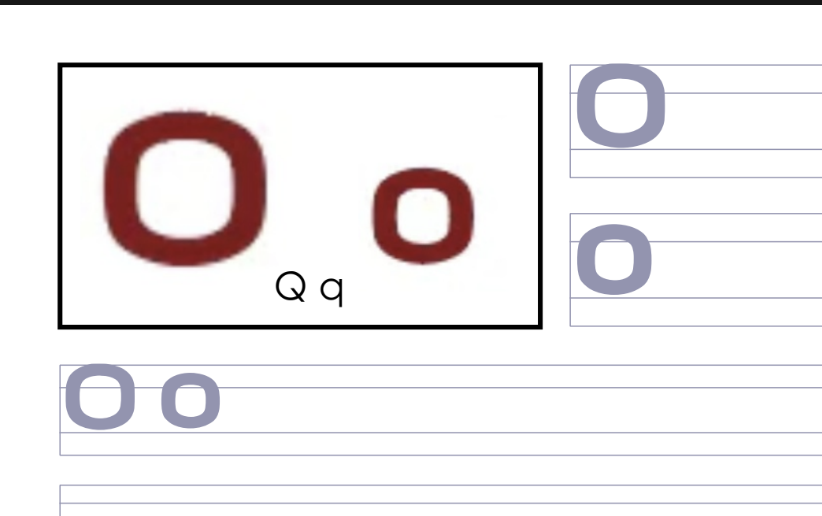Q: (99, 102, 276, 271), (565, 57, 674, 158), (57, 356, 146, 438)
q: (355, 161, 486, 275), (567, 220, 664, 308), (153, 368, 227, 437)
